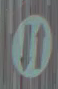Two way: (5, 8, 53, 71)
